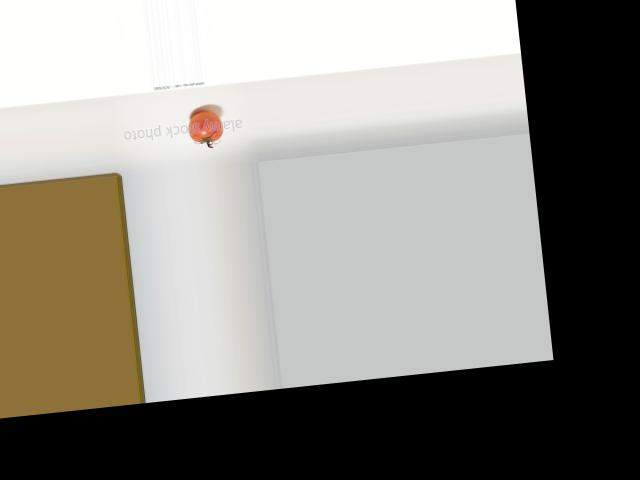tomato: (186, 109, 224, 144)
